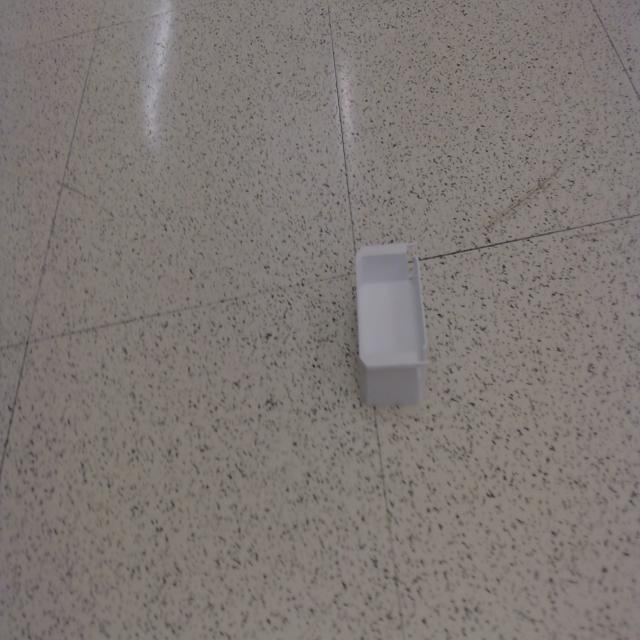wbox: (354, 240, 429, 410)
